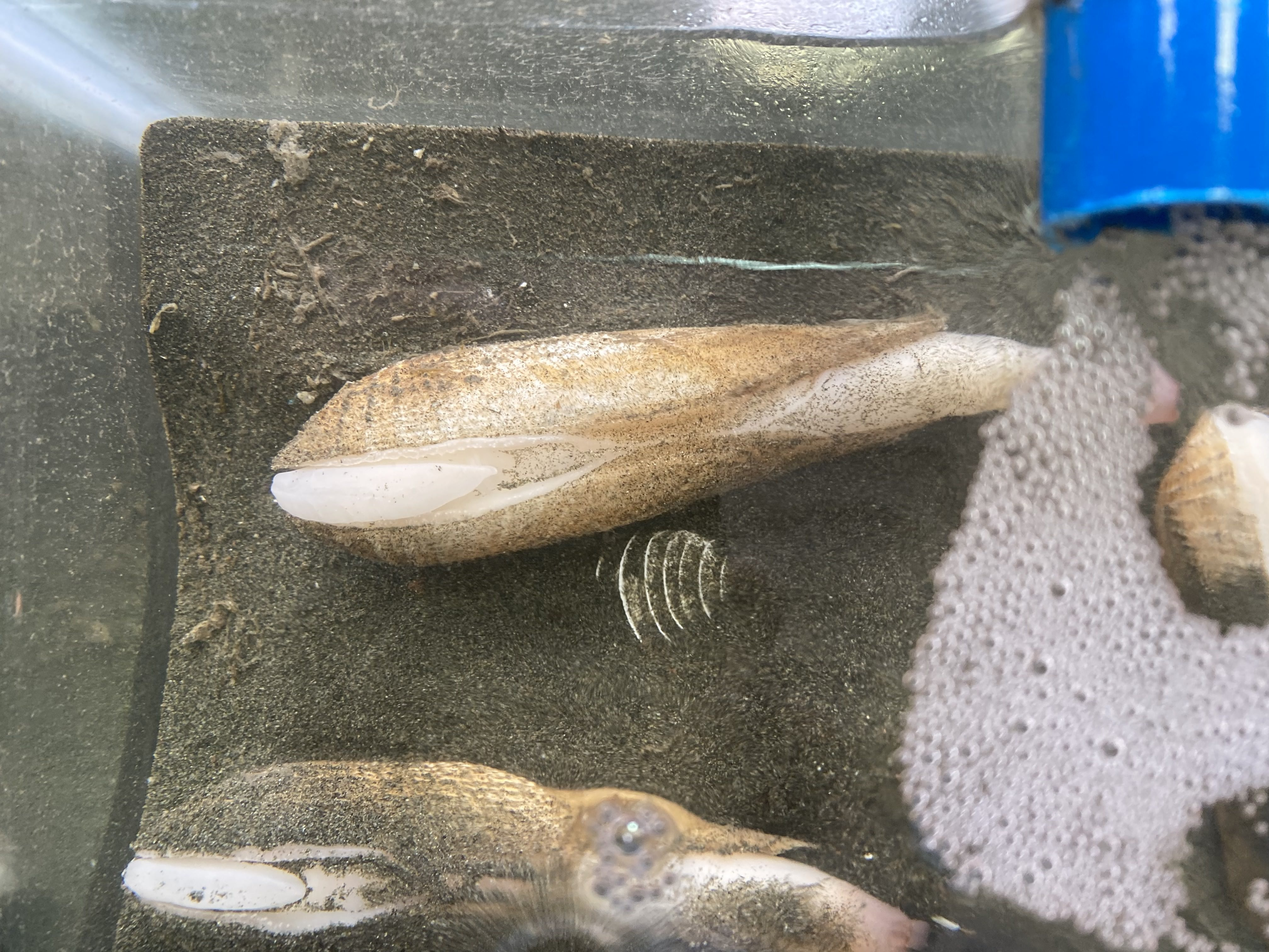Healthy: (272, 316, 1046, 565), (125, 761, 927, 952)
